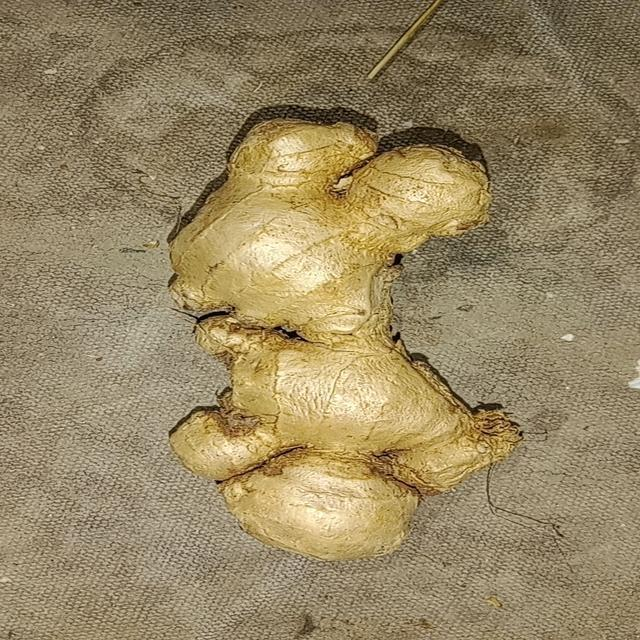ginger: (185, 105, 525, 562)
